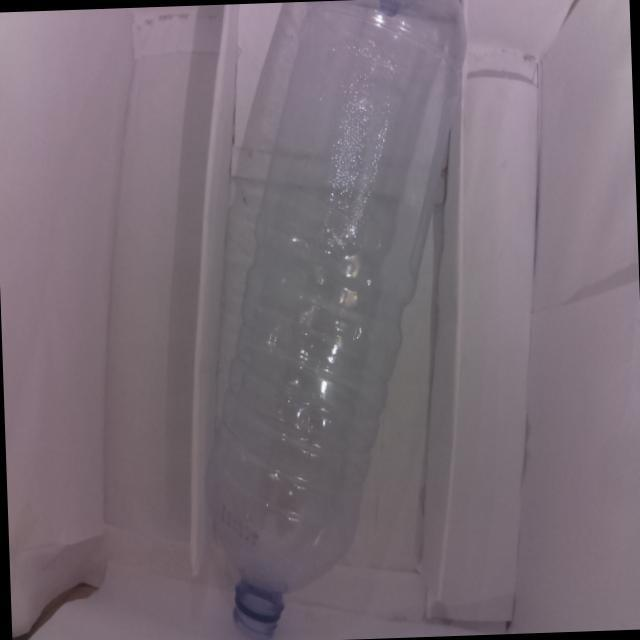good: (163, 0, 497, 640)
